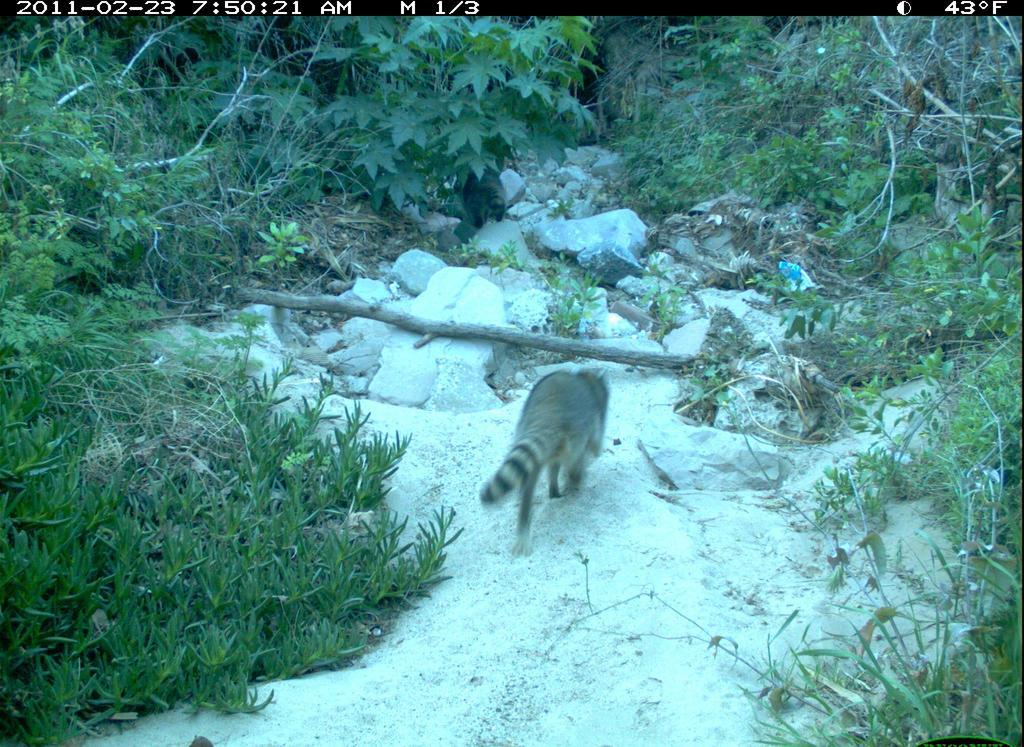raccoon: (478, 347, 639, 561)
